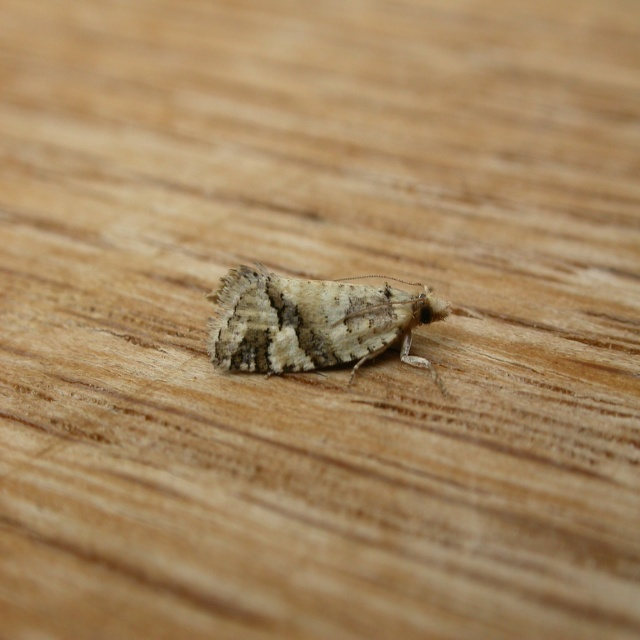Moths and butterflies: (204, 251, 485, 395)
